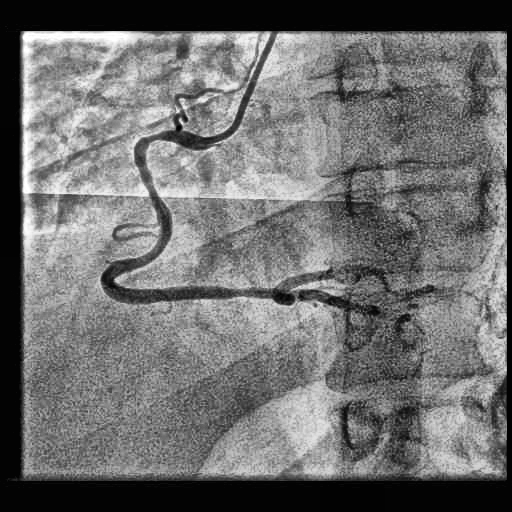pborca: (278, 264, 424, 297)
pda: (295, 289, 368, 314)
rca: (101, 130, 299, 305)
